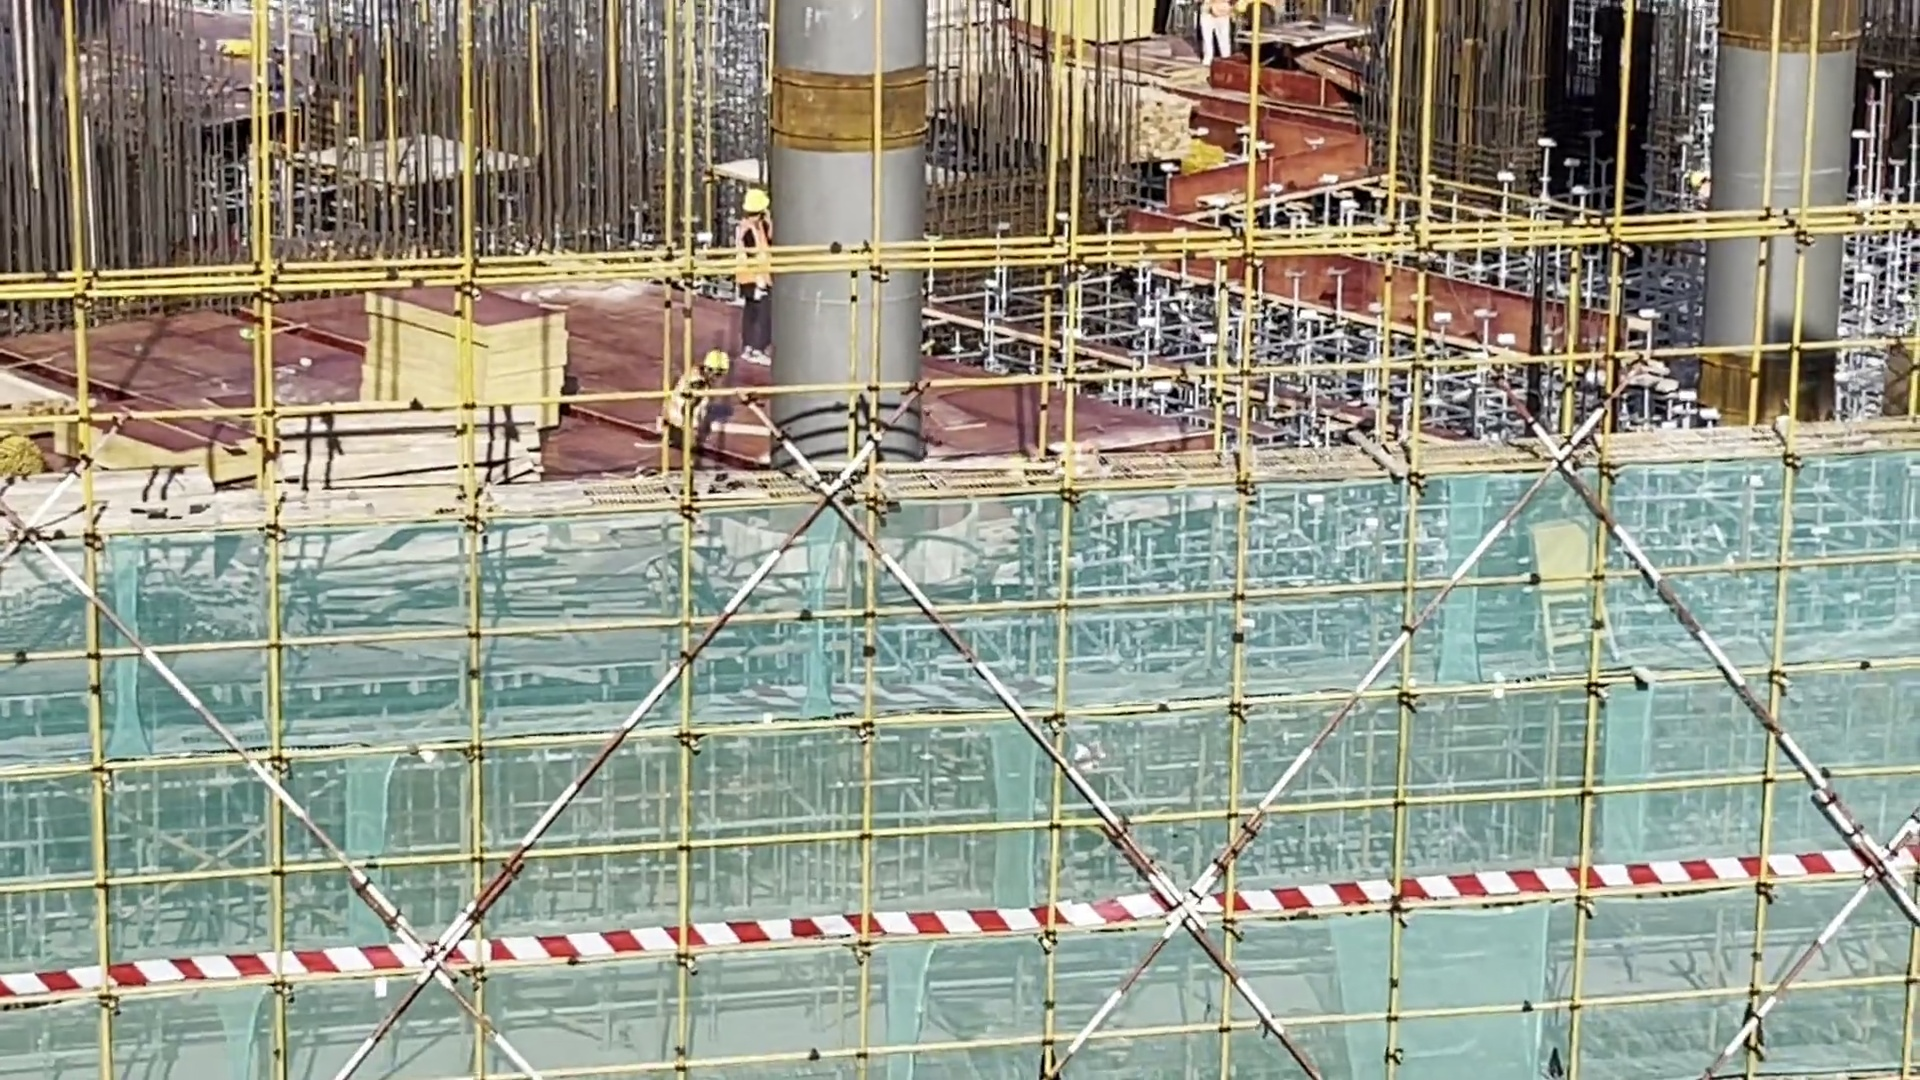helmet: (698, 348, 734, 383), (743, 188, 770, 218)
person: (658, 341, 737, 469), (736, 173, 781, 366), (1186, 1, 1254, 88)
vest: (661, 360, 710, 441), (737, 214, 779, 301)
